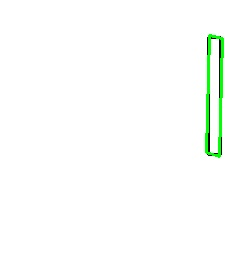line_segment: (206, 35, 223, 157)
